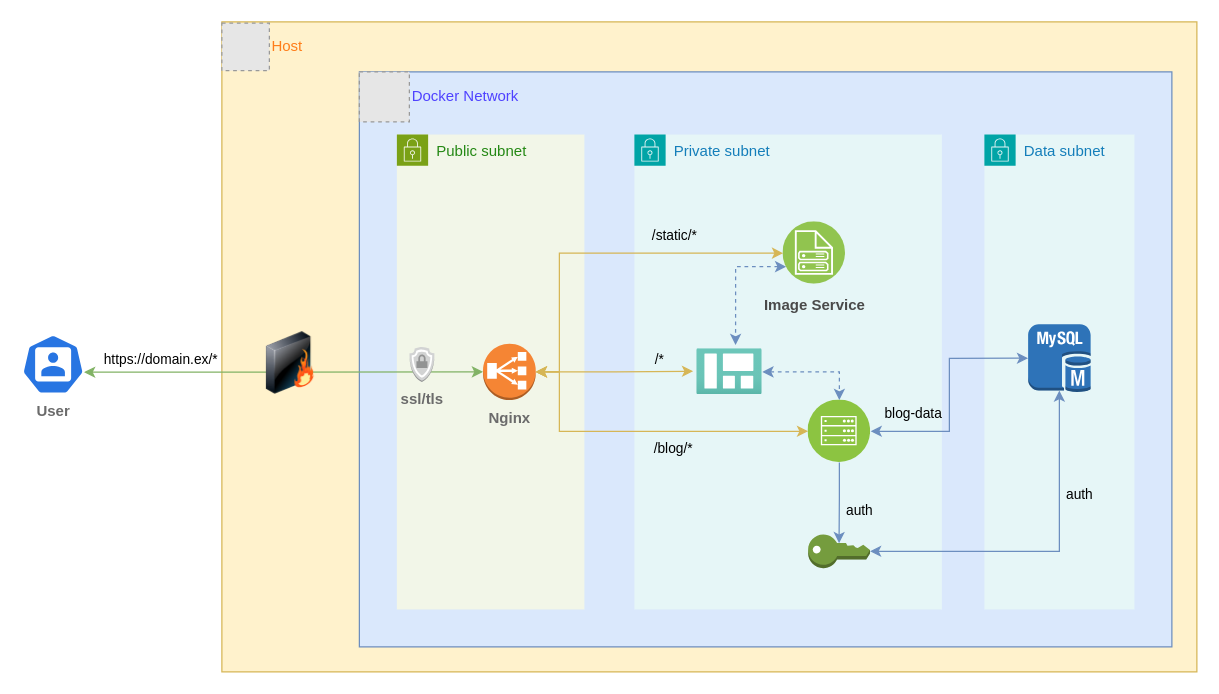
Image size: 1219x694. Some labels were removed from this diagram. Grey dashed boxes stand in for pictures. Each missing label, with the centre of its shape:
"Blog Service" belongs at point (839, 430).
"Frontend" belongs at point (729, 371).
"KeyCloak" belongs at point (838, 550).
"ufw firewall fail2ban apparmor" belongs at point (290, 362).
